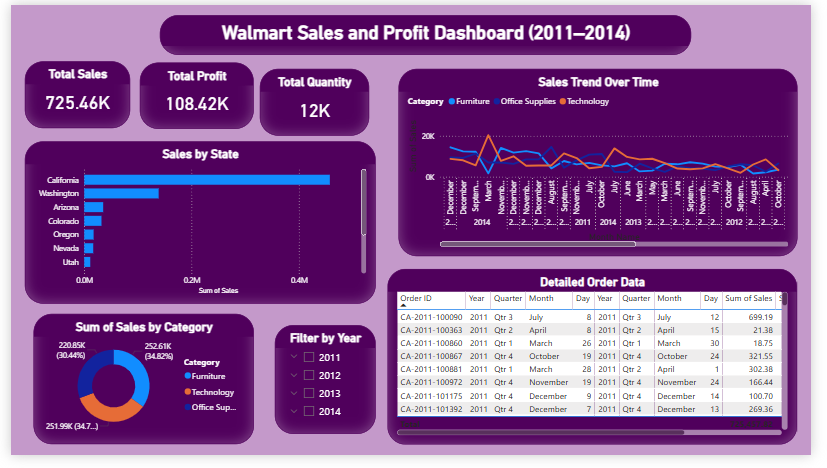

This screenshot's page, from the dashboard's own definition file:
{"tool":"powerbi","page":{"name":"Page 1","canvas":[1280,720],"ordinal":0},"visuals":[{"type":"card","title":"Total Sales","fields":{"Values":["Sum(Walmart.Sales)"]},"box":[22.5,90,168.8,107.5],"z":0},{"type":"card","title":"Total Profit","fields":{"Values":["Sum(Walmart.Profit)"]},"box":[206.2,91.2,182.5,106.2],"z":1},{"type":"card","title":"Total Quantity","fields":{"Values":["Sum(Walmart.Quantity)"]},"box":[397.5,101.2,175,107.5],"z":2},{"type":"clusteredBarChart","title":" Sales by State","fields":{"Category":["Walmart.State"],"Y":["Sum(Walmart.Sales)"]},"box":[22.5,217.5,561.2,260],"z":3},{"type":"lineChart","title":"Sales Trend Over Time","fields":{"Category":["Walmart.Year","Walmart.Month Name"],"Y":["Sum(Walmart.Sales)"],"Series":["Walmart.Category"]},"box":[620,101.2,638.8,300],"z":4},{"type":"donutChart","fields":{"Category":["Walmart.Category"],"Y":["Sum(Walmart.Sales)"]},"box":[35.7,494.3,352.9,208.6],"z":6},{"type":"tableEx","title":"Detailed Order Data","fields":{"Values":["Walmart.Order ID","Walmart.Order Date.Variation.Date Hierarchy.Year","Walmart.Order Date.Variation.Date Hierarchy.Quarter","Walmart.Order Date.Variation.Date Hierarchy.Month","Walmart.Order Date.Variation.Date Hierarchy.Day","Walmart.Ship Date.Variation.Date Hierarchy.Year","Walmart.Ship Date.Variation.Date Hierarchy.Quarter","Walmart.Ship Date.Variation.Date Hierarchy.Month","Walmart.Ship Date.Variation.Date Hierarchy.Day","Sum(Walmart.Sales)","Sum(Walmart.Profit)","Sum(Walmart.Days to Ship)"]},"box":[602.5,422.5,665,280],"z":7},{"type":"slicer","title":"Filter by Year","fields":{"Values":["Walmart.Year","Walmart.Category","Walmart.State"]},"box":[422.9,511.4,161.4,174.3],"z":8},{"type":"textbox","title":"Walmart Sales and Profit Dashboard (2011–2014)\n","box":[237.5,15,850,63.8],"z":9}]}

Visuals, with their boxes in screenshot pixels (x1, y1, x2, y2), scaled from the page's 1280x720 canvas onto the 827x468 screenshot:
"Total Sales" card: (15, 58, 124, 128)
"Total Profit" card: (133, 59, 251, 128)
"Total Quantity" card: (257, 66, 370, 136)
" Sales by State" clusteredBarChart: (15, 141, 377, 310)
"Sales Trend Over Time" lineChart: (401, 66, 813, 261)
donutChart - Walmart.Category x Sum(Walmart.Sales): (23, 321, 251, 457)
"Detailed Order Data" tableEx: (389, 275, 819, 457)
"Filter by Year" slicer: (273, 332, 378, 446)
"Walmart Sales and Profit Dashboard (2011–2014)
" textbox: (153, 10, 703, 51)
